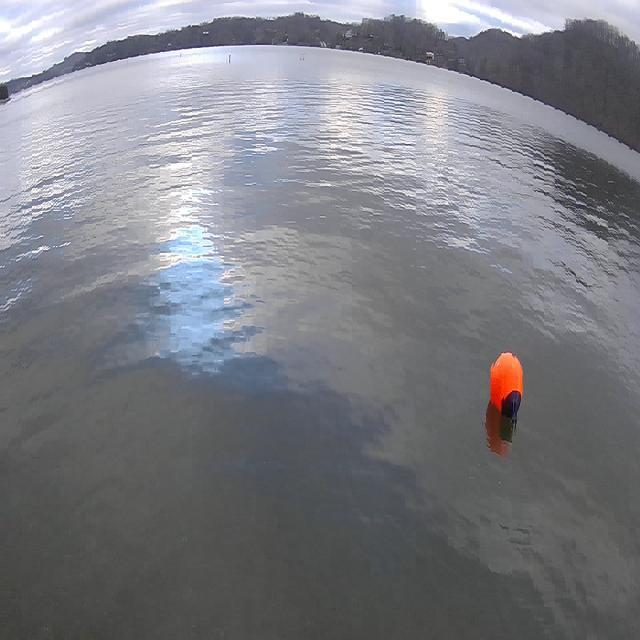Buoy: (487, 341, 527, 425)
